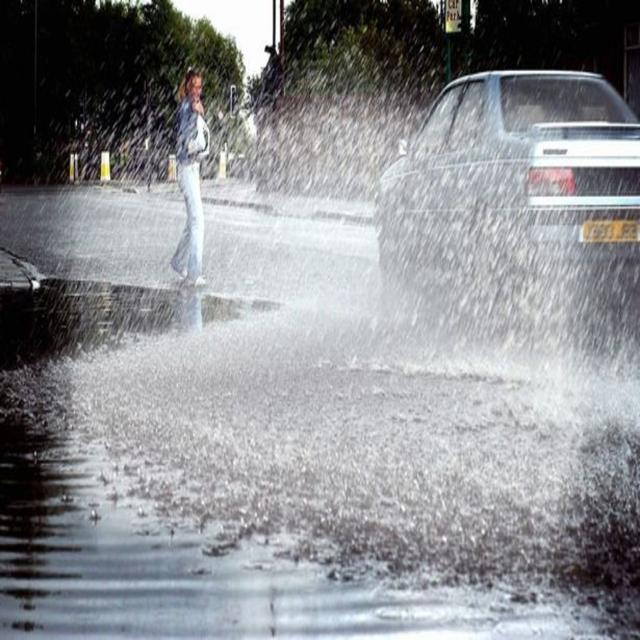bus: (169, 64, 211, 285)
car: (372, 70, 636, 320)
